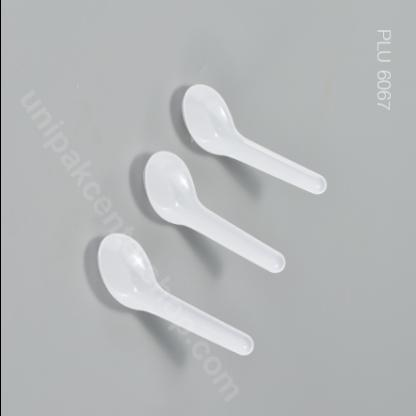Others: (178, 64, 331, 200), (95, 234, 261, 356), (146, 136, 288, 274)
